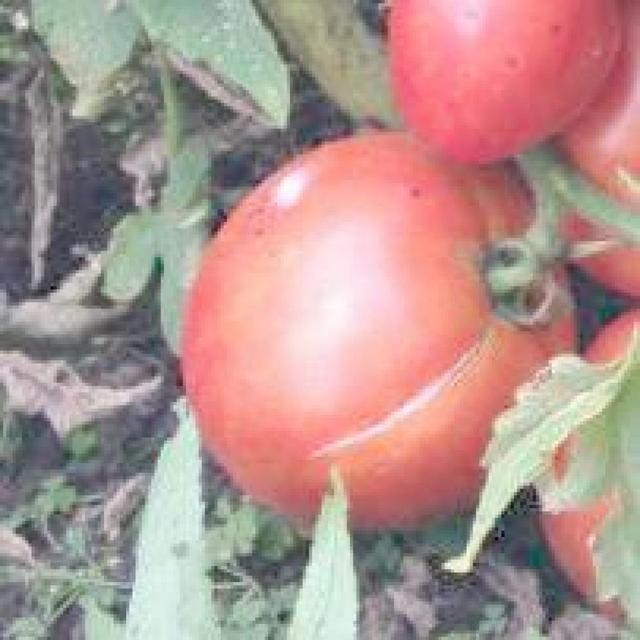Healthy Fruit: (265, 5, 414, 101)
